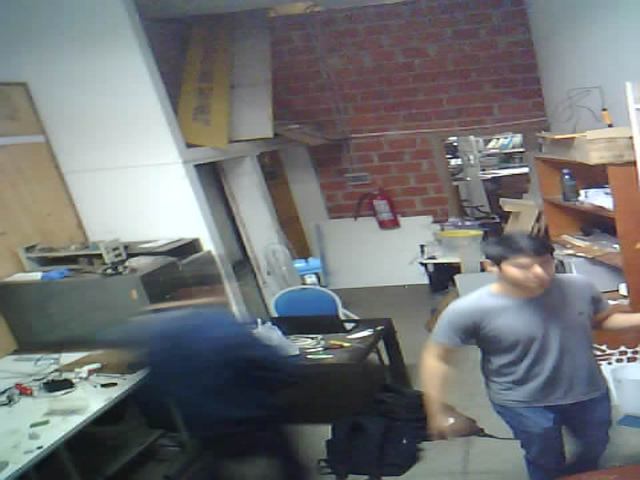person: (390, 209, 640, 480), (48, 259, 323, 480)
